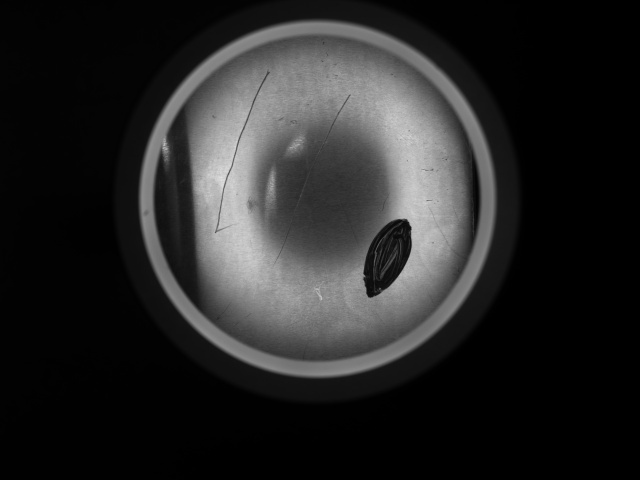ca_shang: (268, 92, 351, 272), (213, 68, 274, 237)
zang_wu: (359, 216, 415, 301)
